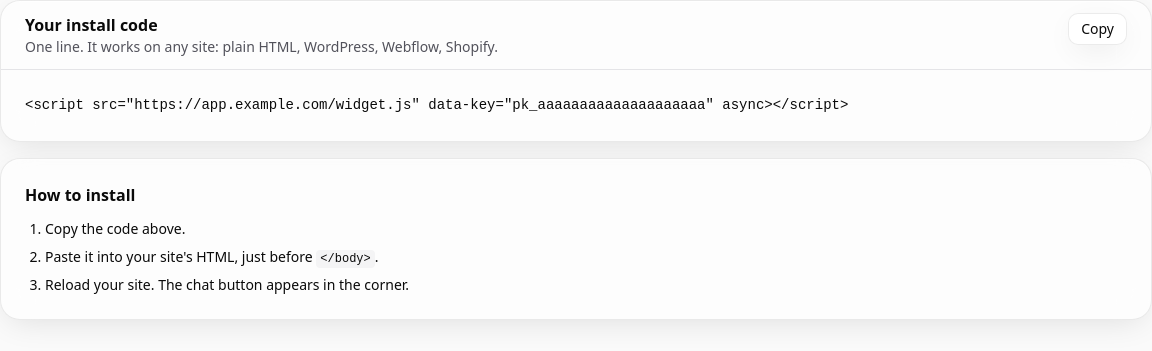
Test case: InstallPanel › falls back to selecting the snippet when the clipboard refuses
Click the button "Copy" at (1098, 29), box top-left (1068, 13), bottom-right (1127, 45)
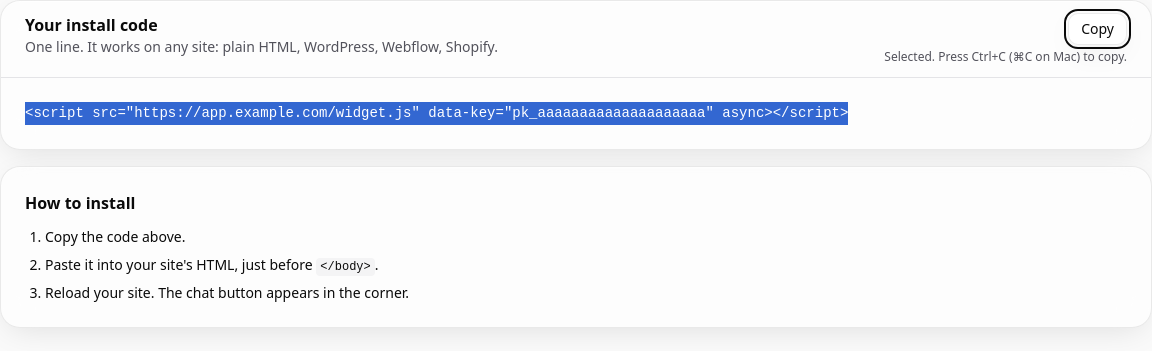
Result: the text "Selected. Press Ctrl+C (⌘C on Mac) to copy." is shown at top-left (884, 49), bottom-right (1127, 65)
